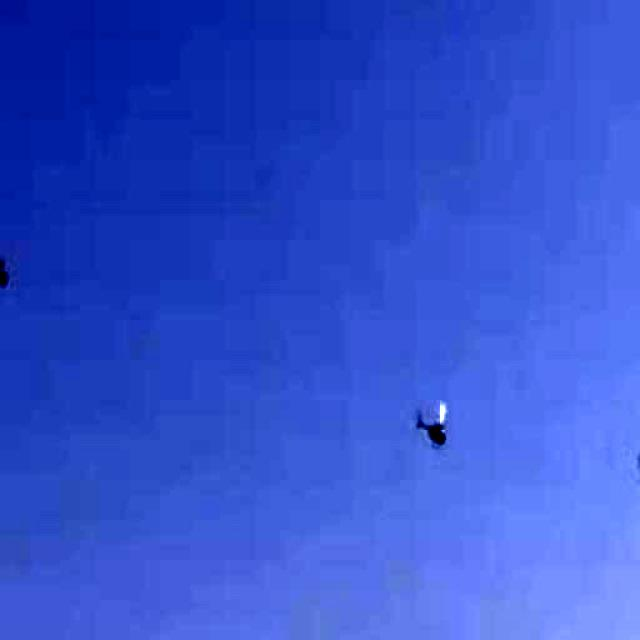drone: (405, 388, 462, 464), (0, 221, 24, 301), (616, 431, 640, 501)
